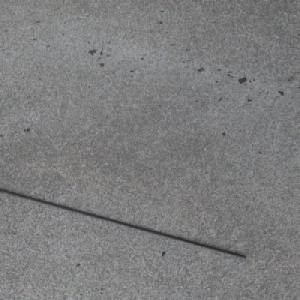LuggagePart: (0, 187, 250, 260)
